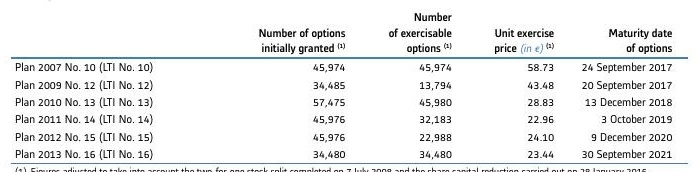table: (0, 0, 698, 172)
